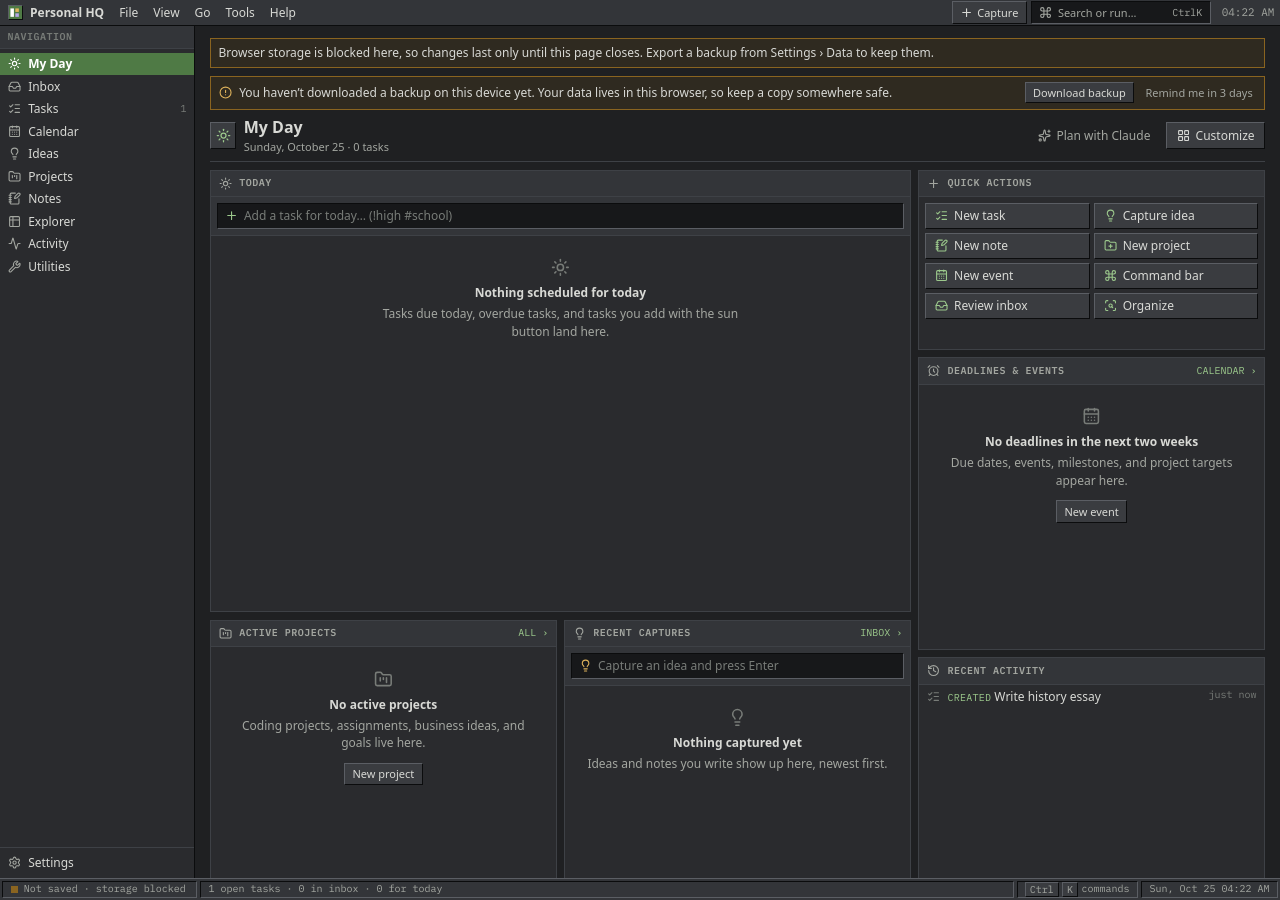
it: Personal HQ app › opens the command bar with Ctrl+K, finds a task, and opens it with Enter
Expected: the heading "My Day" is shown, top-left (244, 116), bottom-right (303, 138)
Type keys "{Control>}k{/Control}"
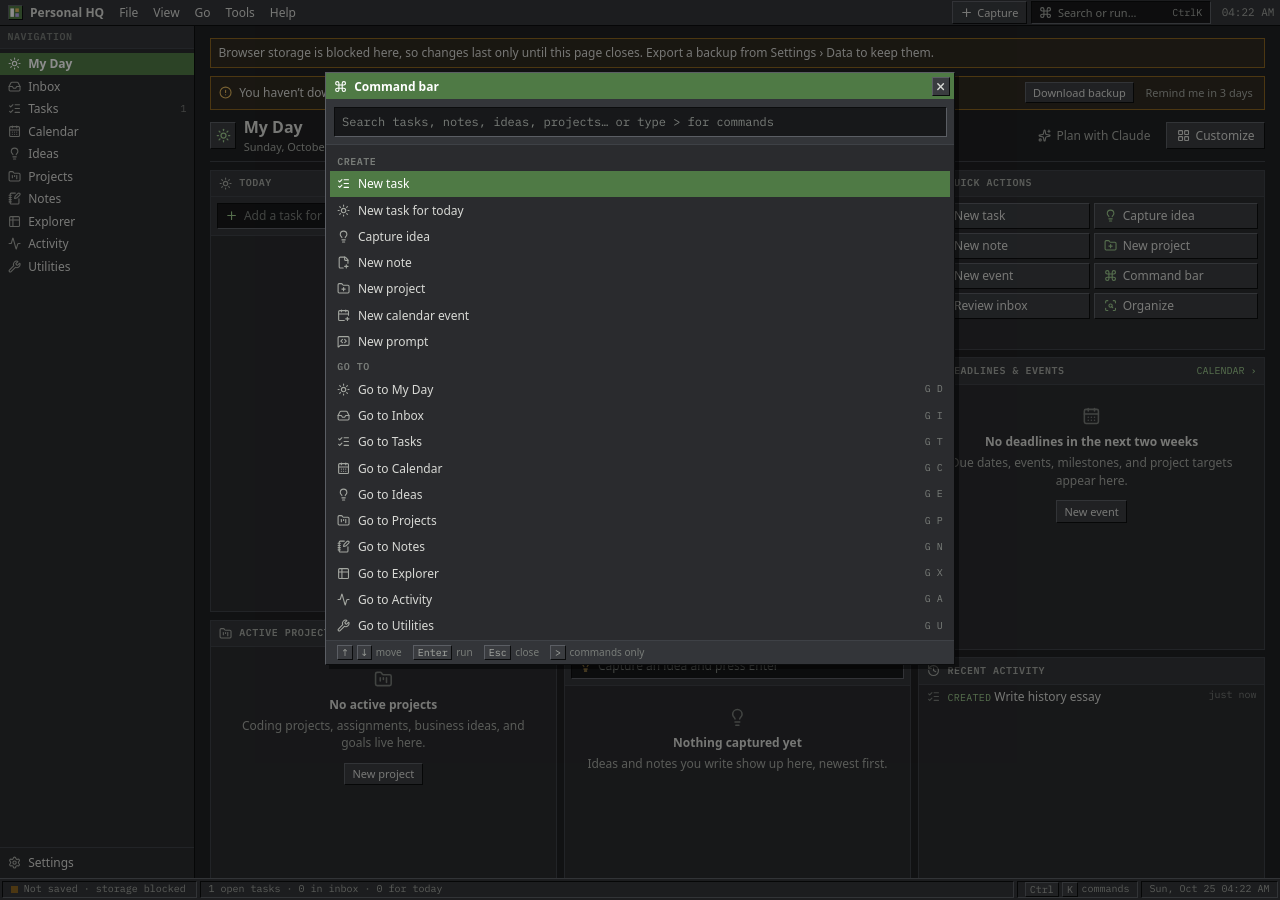
In the dropdown named "Search or type a command": (640, 122) top-left (334, 107), bottom-right (946, 137), type "history"
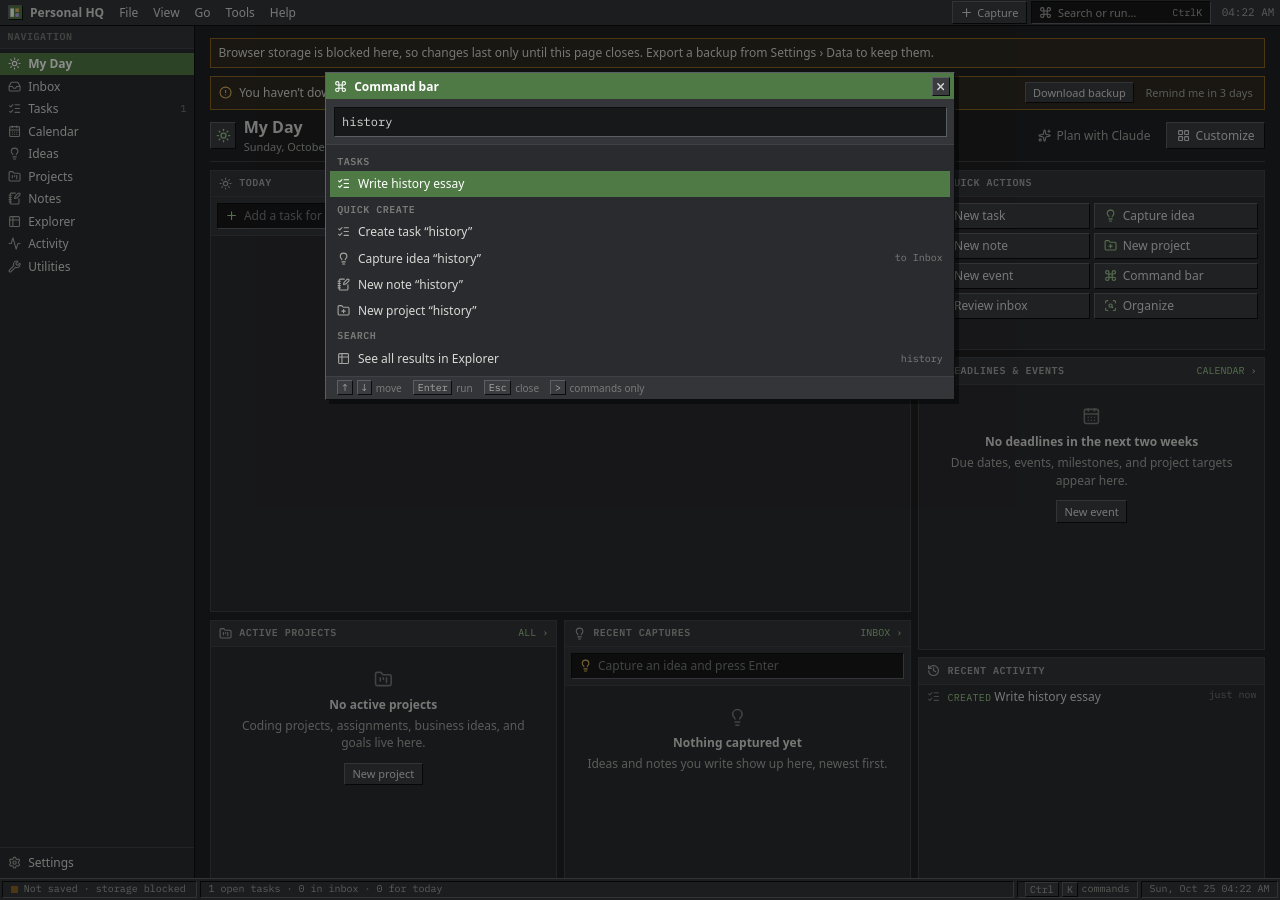
Press Enter
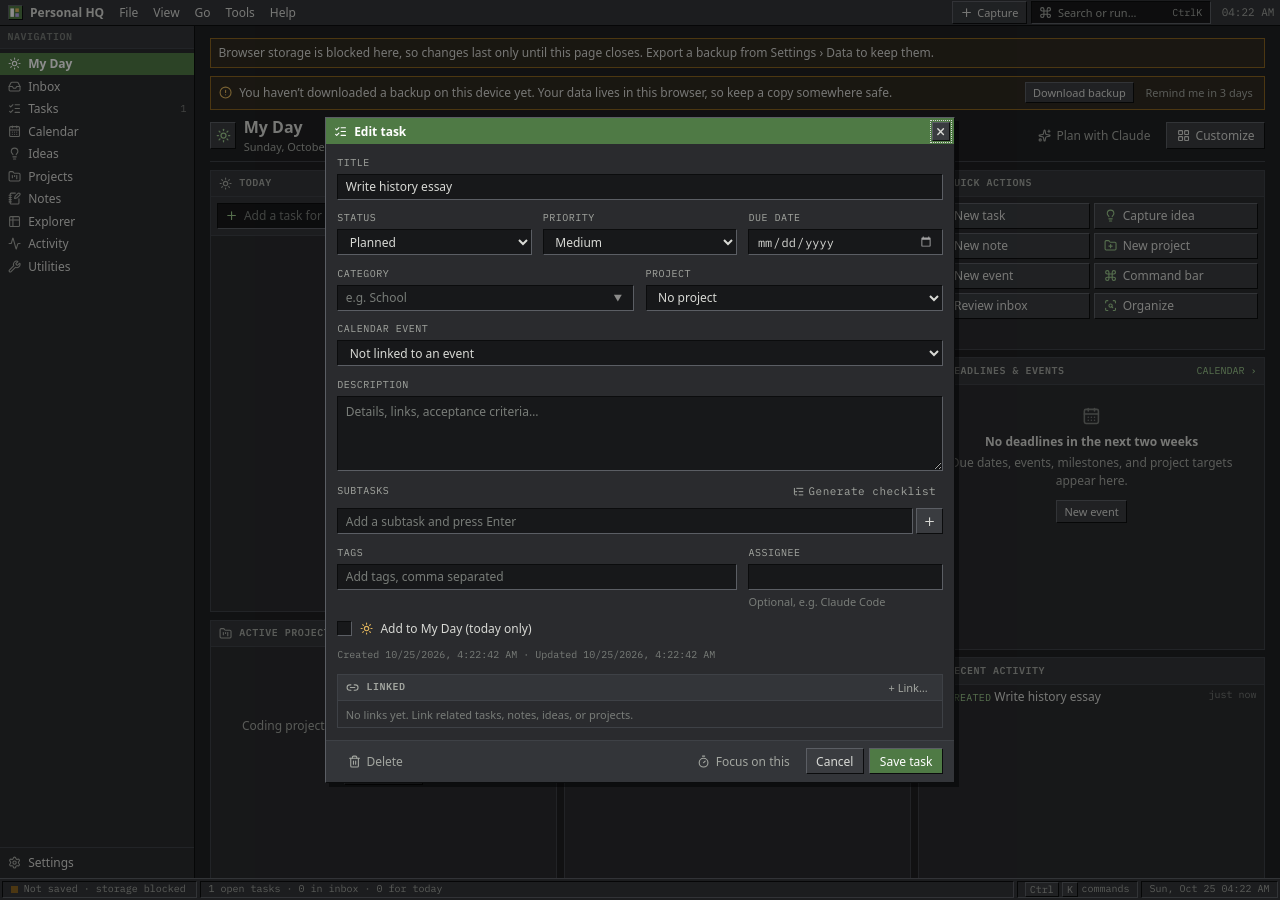
Now the field showing "Write history essay" is shown, box top-left (337, 174), bottom-right (943, 200)
